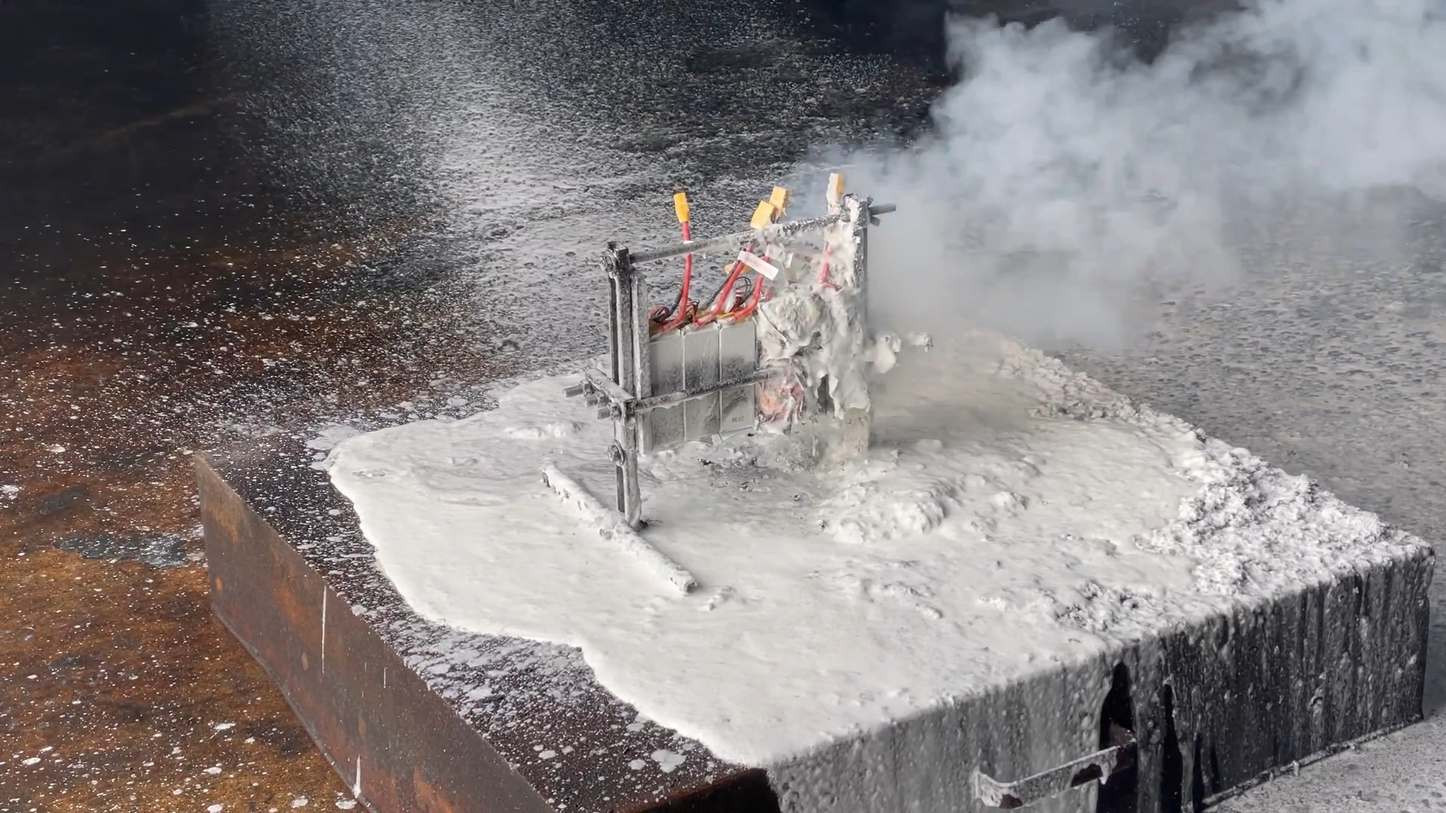smoke: (786, 0, 1446, 419)
